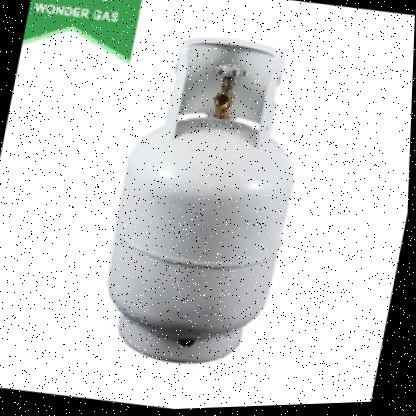gas-tank: (67, 6, 364, 402)
